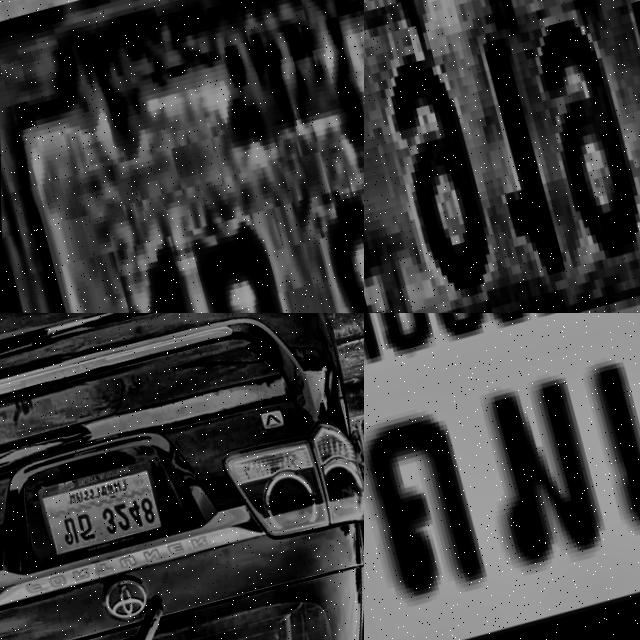license-plate: (0, 0, 364, 313), (364, 313, 640, 640), (364, 0, 640, 313), (33, 456, 167, 568)
